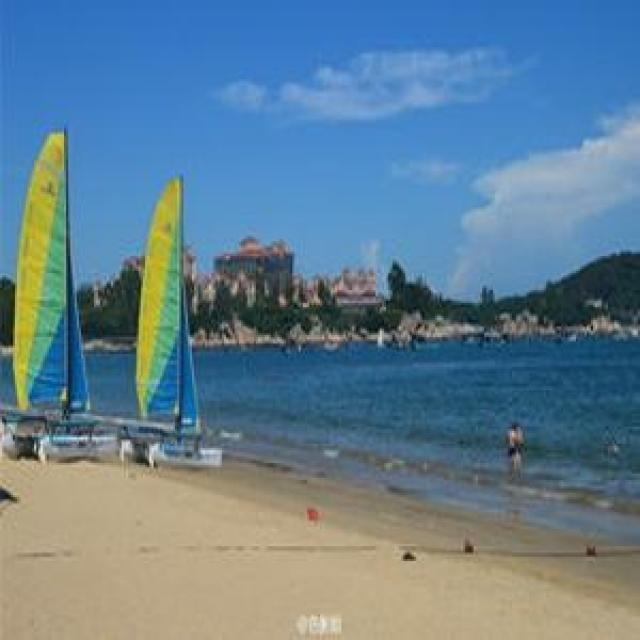sailboat: (10, 110, 146, 472), (143, 172, 230, 472)
